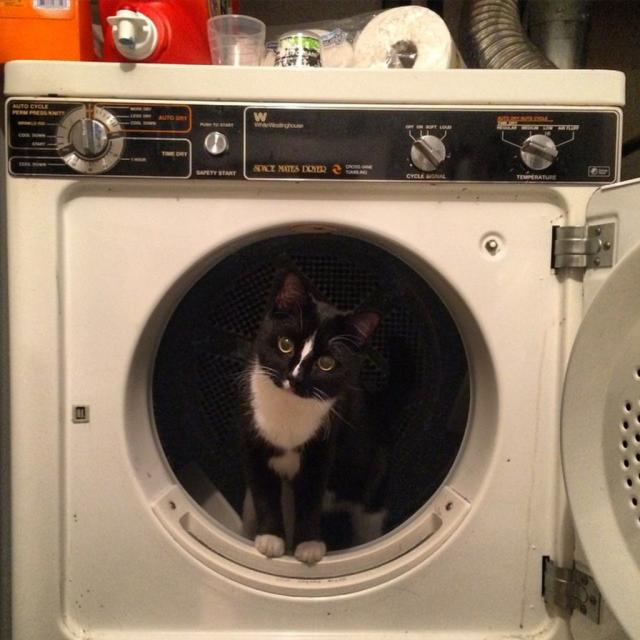Cat: (222, 249, 393, 564)
